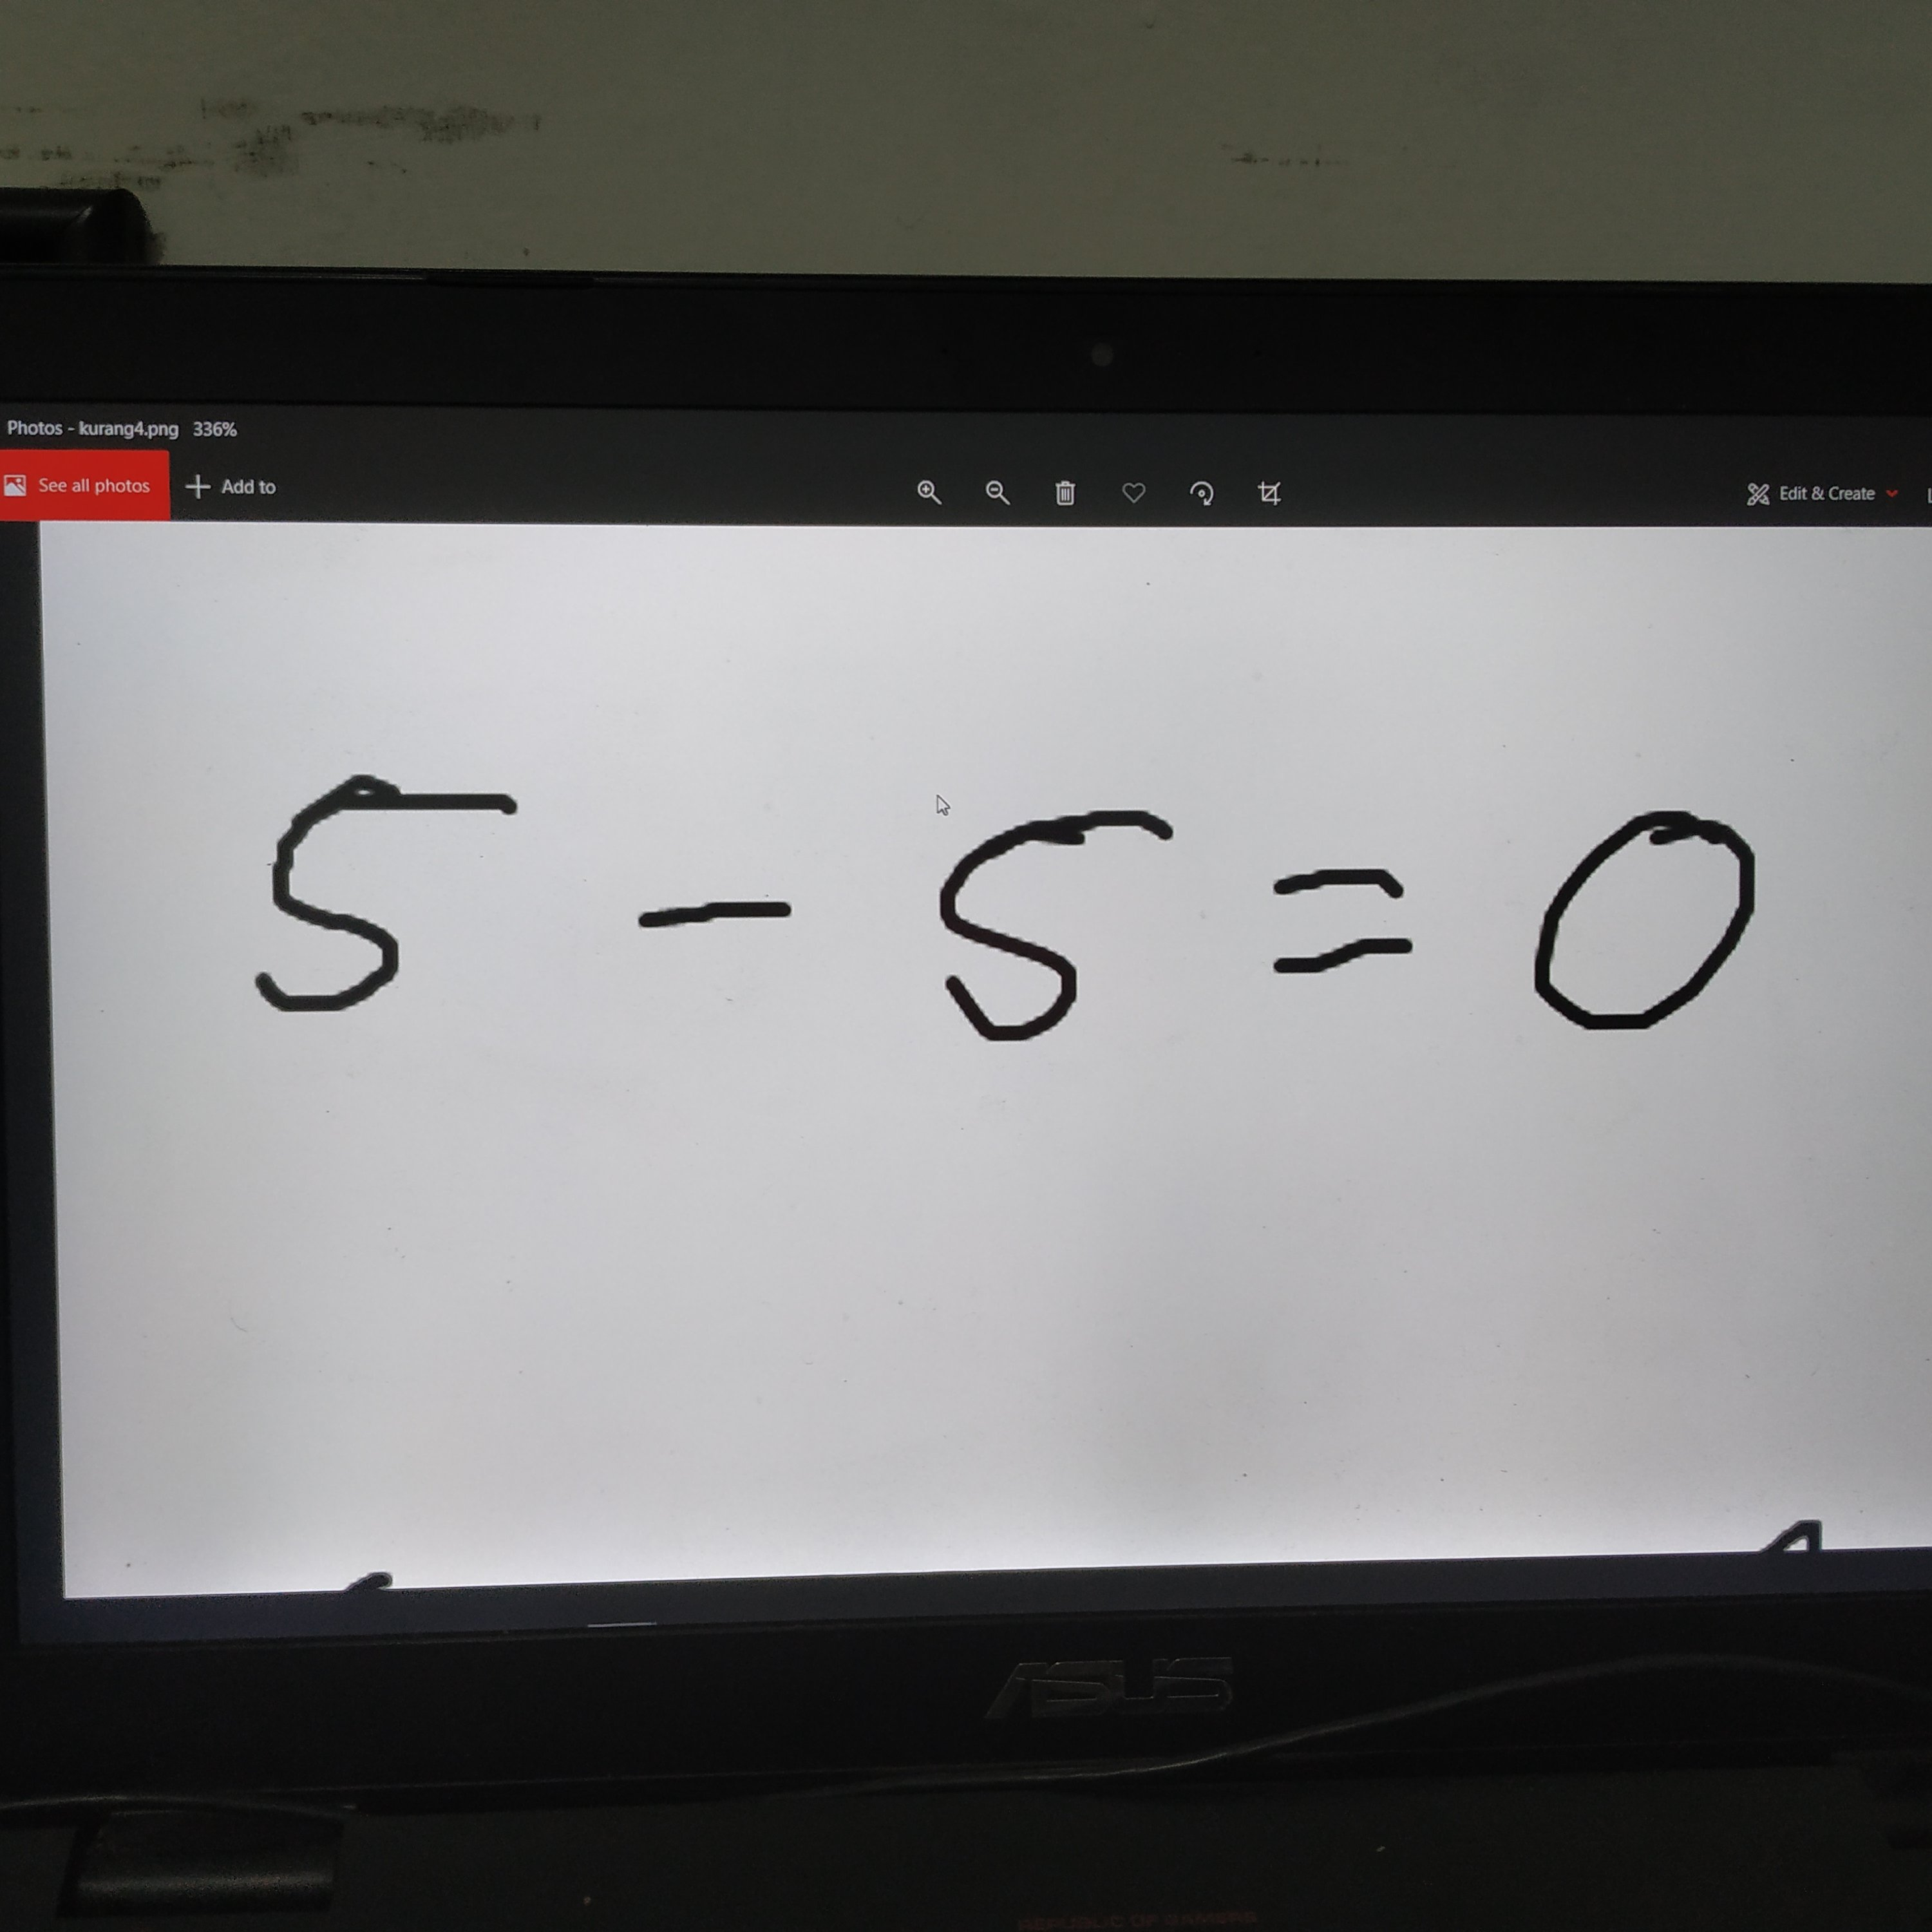equal: (1255, 856, 1442, 989), (613, 876, 835, 961)
num0: (1502, 787, 1781, 1072)
num5: (902, 779, 1214, 1080), (229, 756, 545, 1041)
